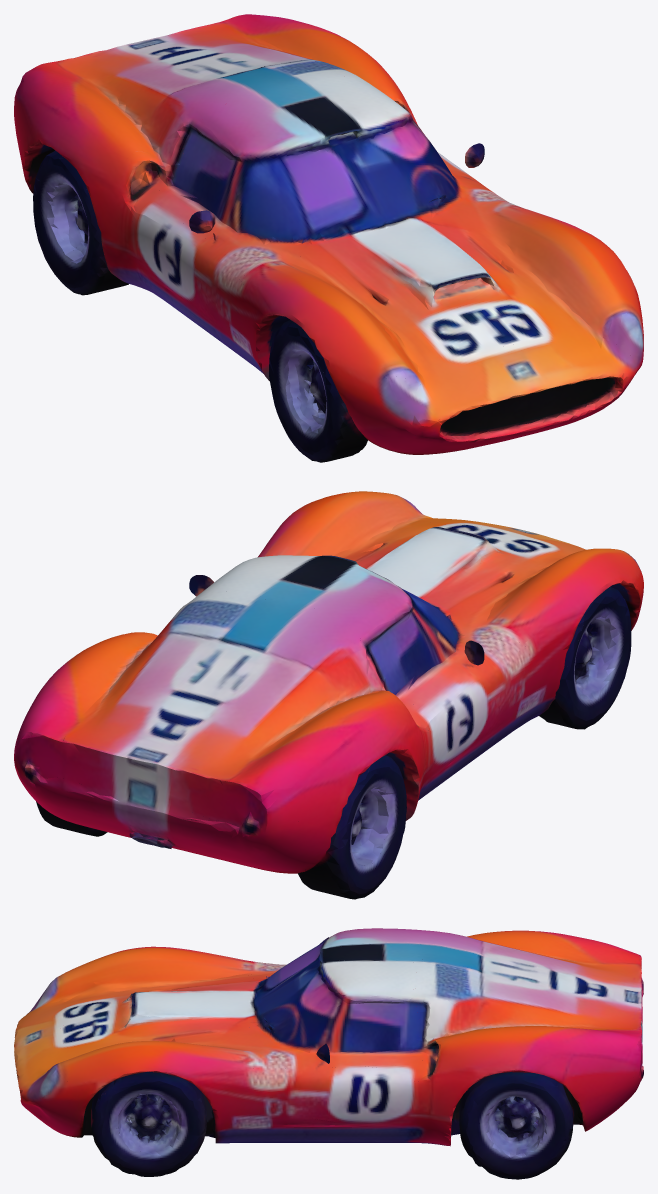
File: classiclemans3.glb
The picture shows the model from 3 angles, top to bottom: view 1: azimuth 30°, elevation 25°; view 2: azimuth 150°, elevation 25°; view 3: azimuth 270°, elevation 25°; orthographic projection. The views are drawn at different scales.
Parts seen in each view (by area): view 1: panel_hood, panel_roof, panel_trunk, panel_bumper_f, panel_door_L, susp_front_L, wheel_front_L, panel_bumper_r, susp_rear_L, wheel_front_R, wheel_rear_L; view 2: panel_trunk, panel_hood, panel_roof, panel_bumper_r, panel_door_L, susp_front_L, susp_rear_L, panel_bumper_f, wheel_rear_L, wheel_front_L; view 3: panel_trunk, panel_hood, panel_roof, panel_door_R, panel_bumper_f, panel_bumper_r, susp_front_R, susp_rear_R, wheel_front_R, wheel_rear_R.
Part boxes in pixels (<box>): panel_hood: <box>234,204,637,383</box>; panel_roof: <box>159,74,515,276</box>; panel_trunk: <box>14,14,417,292</box>; panel_bumper_f: <box>259,315,630,454</box>; panel_door_L: <box>130,202,253,365</box>; susp_front_L: <box>256,317,456,462</box>; wheel_front_L: <box>317,346,428,450</box>; panel_bumper_r: <box>14,121,103,294</box>; susp_rear_L: <box>23,145,158,296</box>; wheel_front_R: <box>612,313,643,400</box>; wheel_rear_L: <box>55,210,128,294</box>; panel_trunk: <box>14,586,431,833</box>; panel_hood: <box>258,491,636,731</box>; panel_roof: <box>189,555,525,705</box>; panel_bumper_r: <box>14,759,406,897</box>; panel_door_L: <box>417,636,534,800</box>; susp_front_L: <box>539,600,631,729</box>; susp_rear_L: <box>298,752,419,899</box>; panel_bumper_f: <box>409,503,639,669</box>; wheel_rear_L: <box>301,811,382,898</box>; wheel_front_L: <box>610,558,643,630</box>; panel_trunk: <box>408,930,643,1146</box>; panel_hood: <box>49,946,263,1143</box>; panel_roof: <box>244,928,425,1070</box>; panel_door_R: <box>247,1065,423,1142</box>; panel_bumper_f: <box>14,982,203,1176</box>; panel_bumper_r: <box>466,987,643,1179</box>; susp_front_R: <box>40,1077,334,1176</box>; susp_rear_R: <box>444,1081,588,1172</box>; wheel_front_R: <box>19,1067,57,1126</box>; wheel_rear_R: <box>492,1132,537,1178</box>.
Bounding box in the file's own units: 1.88 × 1.19 × 4.
1 material, 1 textured.
